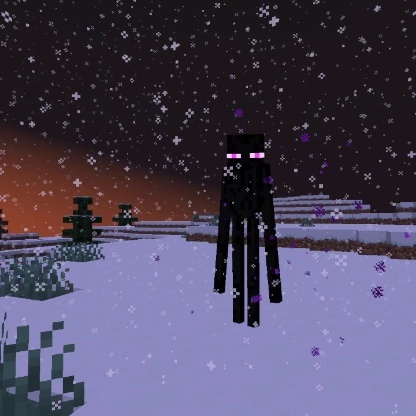enderman: (210, 131, 284, 330)
